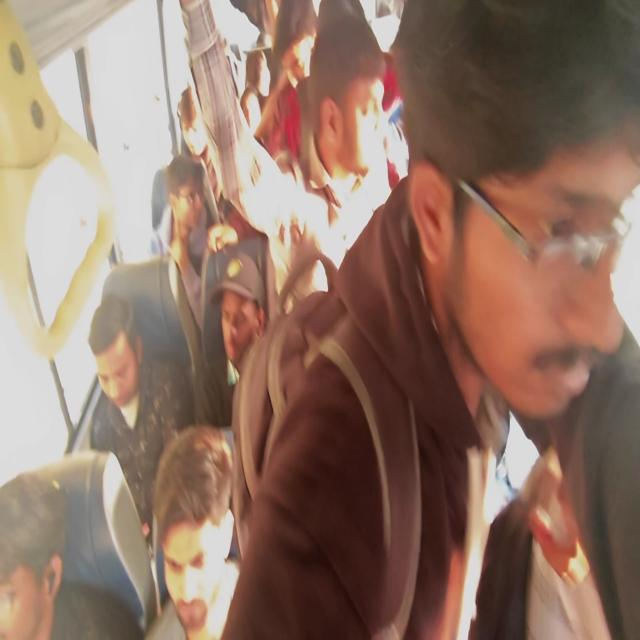person: (468, 312, 640, 638), (455, 136, 636, 424), (396, 0, 638, 199), (246, 4, 392, 298), (97, 255, 194, 379), (201, 249, 269, 422), (156, 152, 221, 328), (254, 1, 321, 163), (469, 490, 536, 640), (153, 424, 234, 544), (160, 500, 232, 634), (100, 454, 154, 632), (0, 472, 67, 590), (311, 4, 383, 104), (46, 582, 142, 640), (224, 1, 284, 74), (0, 561, 46, 639), (95, 328, 140, 405), (207, 251, 264, 309), (194, 354, 236, 428), (88, 292, 136, 352), (362, 1, 406, 64), (273, 2, 319, 62), (150, 165, 178, 257), (241, 49, 271, 133), (219, 194, 262, 250), (196, 422, 234, 481), (317, 0, 361, 49), (144, 593, 188, 639), (165, 154, 204, 196), (177, 85, 199, 131), (202, 154, 222, 203), (226, 45, 244, 92), (82, 92, 97, 147), (183, 120, 205, 154), (261, 0, 282, 34), (376, 0, 404, 21), (229, 42, 242, 64), (176, 104, 183, 121)
